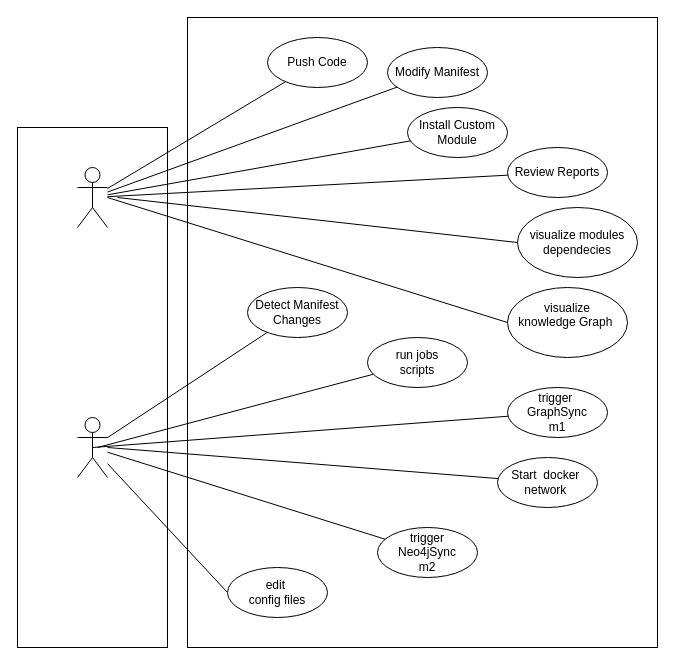
Image size: 675x665. Some labels were removed from this diagram. Here are the shapes that lost their labels. From the top down, the box of each, then its label:
(76, 166, 108, 228): Developer
(76, 416, 108, 478): GitHub Actions Workflow
